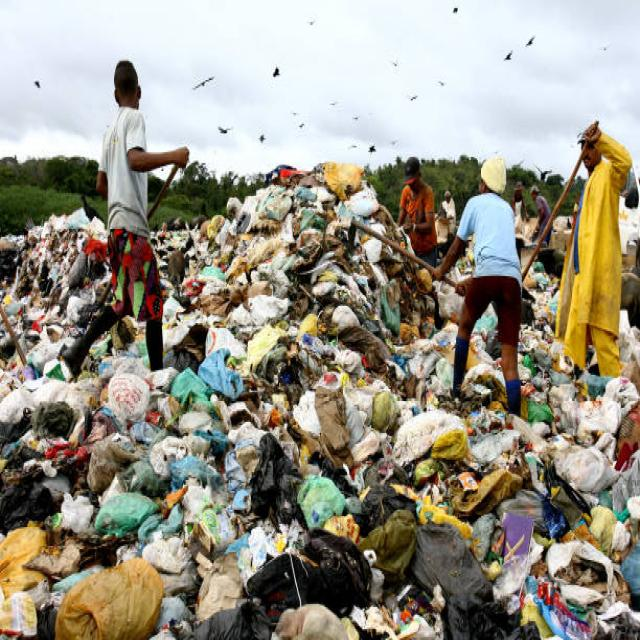trash: (43, 224, 460, 582)
